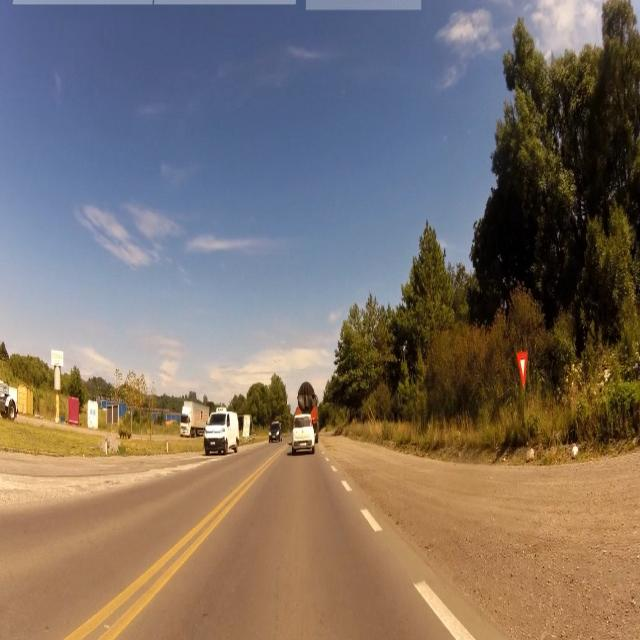R-2: (516, 348, 529, 388)
